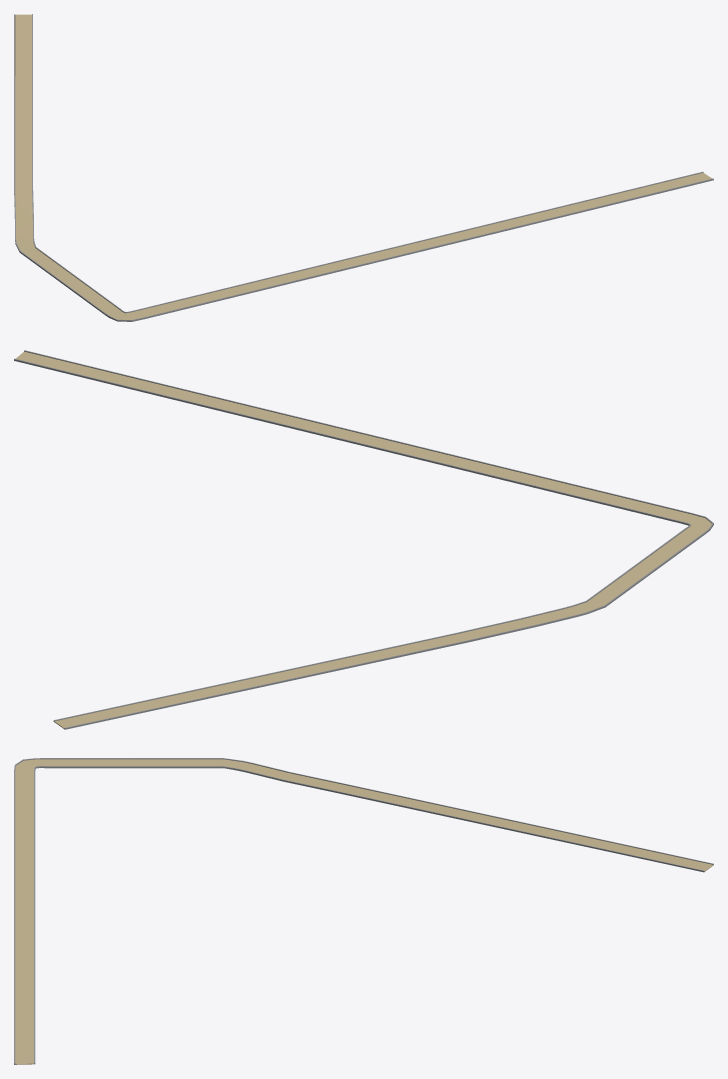
The model's file is Sidewalk_3.gltf.
3 renders of one model, top to bottom at view 1: azimuth 30°, elevation 25°; view 2: azimuth 150°, elevation 25°; view 3: azimuth 270°, elevation 25°, orthographic. The views are drawn at different scales.
Visible parts, largest first — view 1: sidewalk; view 2: sidewalk; view 3: sidewalk.
Part boxes in pixels (x1=…): sidewalk: x1=14, y1=14, x2=713, y2=321; sidewalk: x1=14, y1=350, x2=713, y2=729; sidewalk: x1=14, y1=758, x2=713, y2=1064.
Size of the model in its own units: 11.63 by 0.2259 by 11.27.
1 material, 1 textured.
